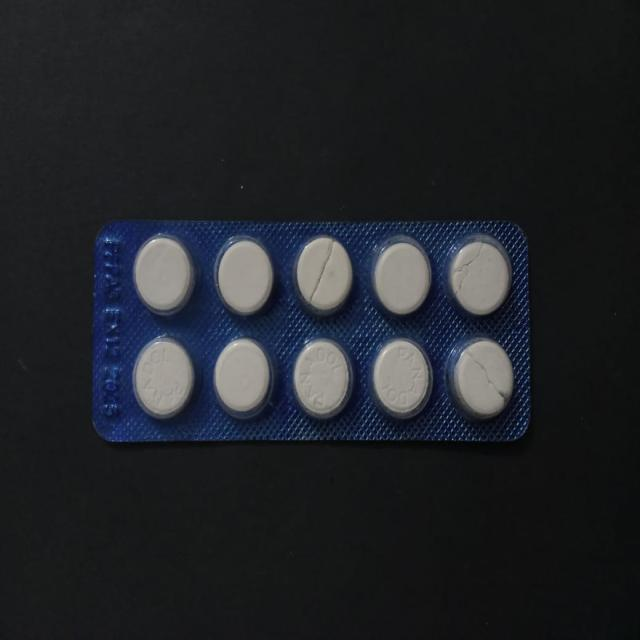defect: (443, 331, 518, 426), (442, 230, 517, 322), (291, 231, 357, 320)
